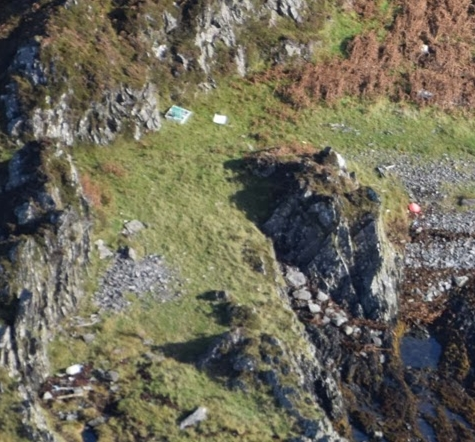scattered_barrel: (158, 94, 241, 147)
white_in_green: (44, 344, 104, 391), (390, 184, 443, 228)
